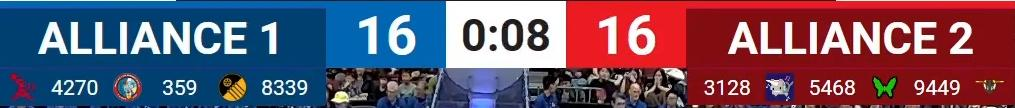blue_score: (355, 12, 417, 58)
red_score: (596, 12, 658, 60)
team_number: (700, 76, 756, 99), (49, 76, 101, 100), (807, 76, 860, 98), (910, 76, 962, 98), (259, 77, 311, 98), (159, 76, 200, 98)
timer: (460, 15, 553, 55)
